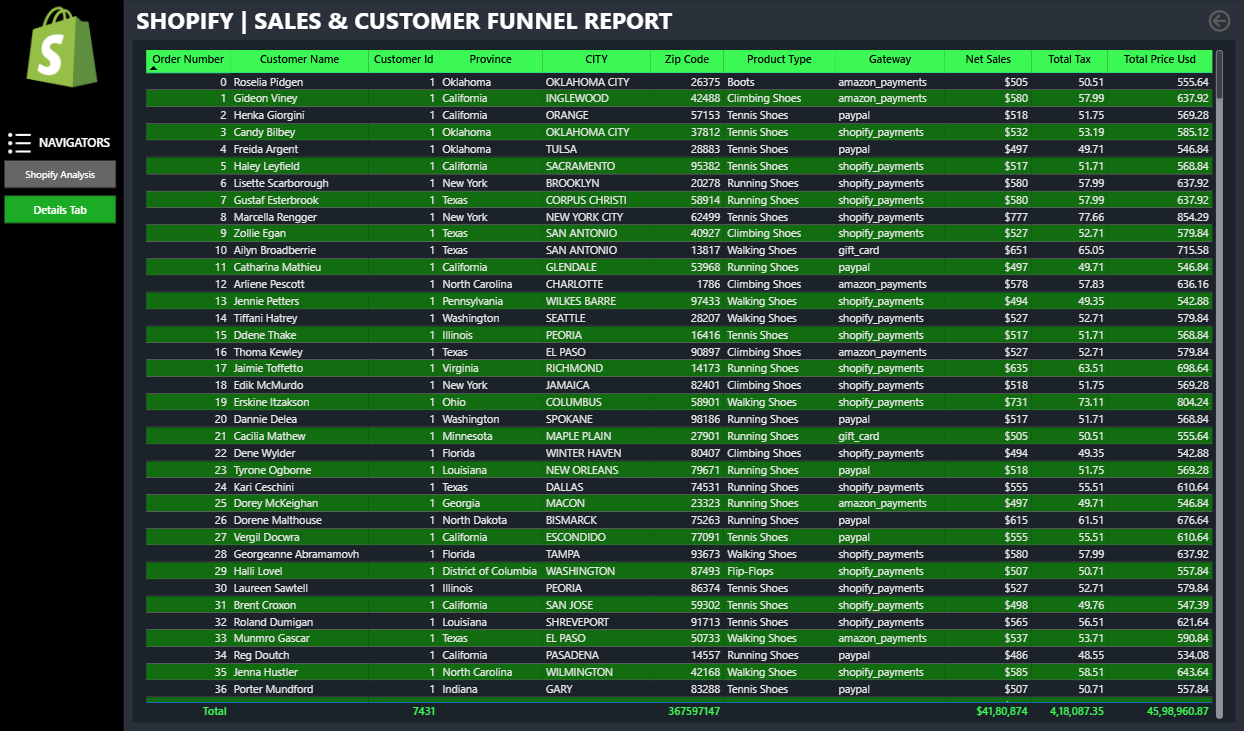

The page's visual inventory and layout, read from the dashboard file:
{"tool":"powerbi","page":{"name":"Details Tab","canvas":[1700,1000],"ordinal":1},"visuals":[{"type":"shape","box":[0,0,170,999],"z":0},{"type":"textbox","box":[182.3,1.7,741.3,54.5],"z":1000},{"type":"shape","box":[182.3,56.2,1503.1,930.5],"z":2000},{"type":"image","box":[25.6,10.2,121,110.8],"z":3000},{"type":"tableEx","fields":{"Values":["shopify_sales.Order Number","shopify_sales.Customer Name","CountNonNull(shopify_sales.Customer Id)","shopify_sales.Billing Address Province","shopify_sales.CITY","Sum(shopify_sales.Billing Address Zip)","shopify_sales.Product Type","shopify_sales.Gateway","shopify_sales.Net Sales","Sum(shopify_sales.Total Tax)","Sum(shopify_sales.Total Price Usd)"]},"box":[194.6,65.5,1479.2,921.8],"z":4000},{"type":"actionButton","box":[1644.5,10.2,40.9,39.2],"z":5000},{"type":"pageNavigator","box":[6.8,219.8,153.4,86.9],"z":6000},{"type":"image","box":[6.8,173.8,42.6,46],"z":7000},{"type":"textbox","box":[49.4,178.9,121,37.5],"z":8000}]}

Visuals, with their boxes on the page's 1700x1000 design canvas (x1, y1, x2, y2). These are canvas units, not pixel positions in the 1244x731 screenshot, which may show the page scaled, cropped or inside an application window:
shape: 0 0 170 999
textbox: 182 2 924 56
shape: 182 56 1685 987
image: 26 10 147 121
tableEx - shopify_sales.Order Number x shopify_sales.Customer Name: 195 66 1674 987
actionButton: 1644 10 1685 49
pageNavigator: 7 220 160 307
image: 7 174 49 220
textbox: 49 179 170 216
